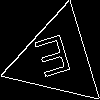E: (31, 34, 77, 88)
